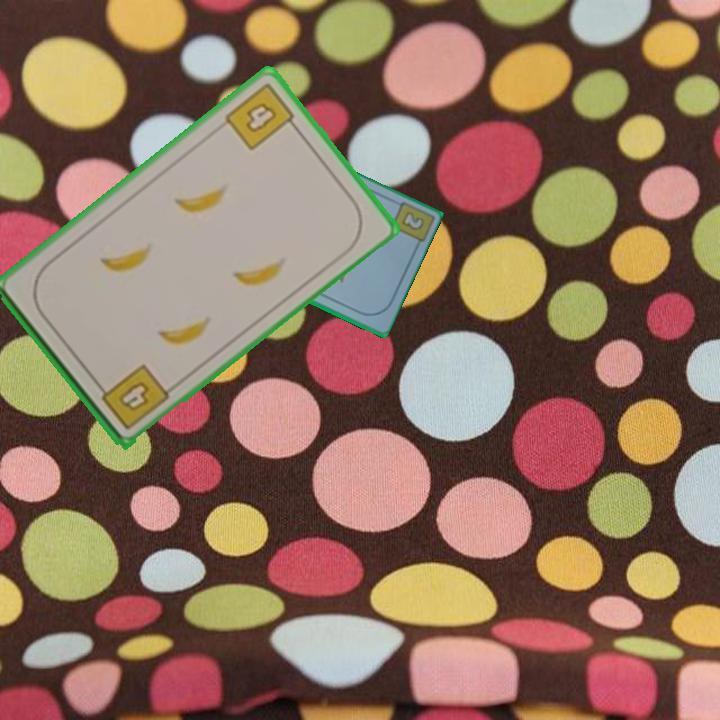2b: (400, 210, 425, 232)
4b: (221, 79, 302, 154), (93, 360, 172, 432)
